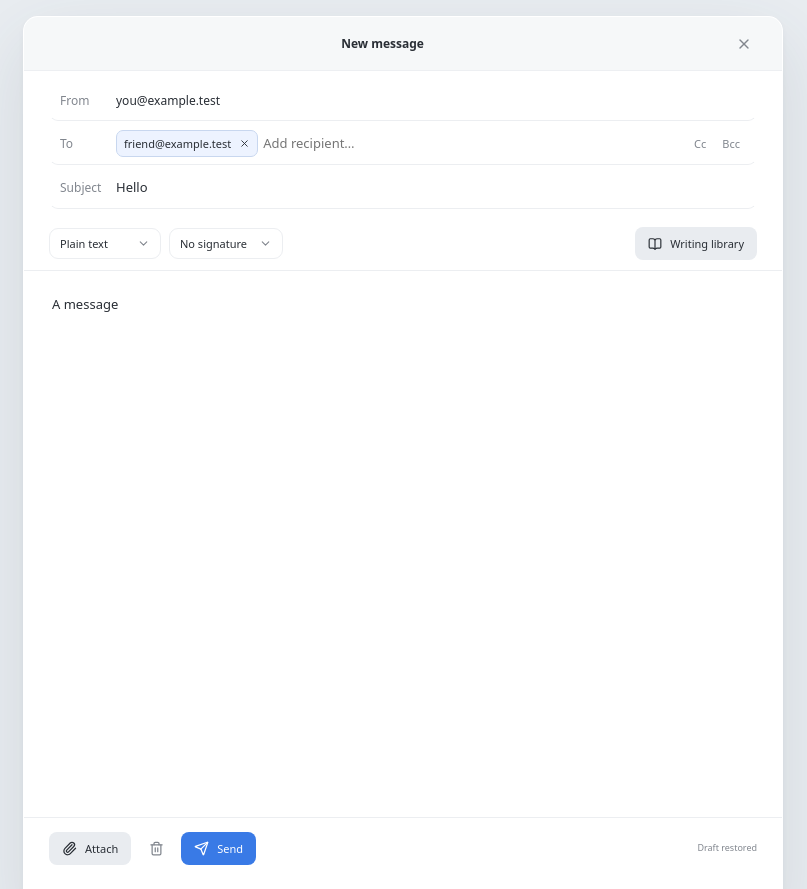
it: real Outlook composer › attaches a local file, persists it, and removes it without sending
Click the button "Attach".
click(90, 848)  # box [49,832,131,865]
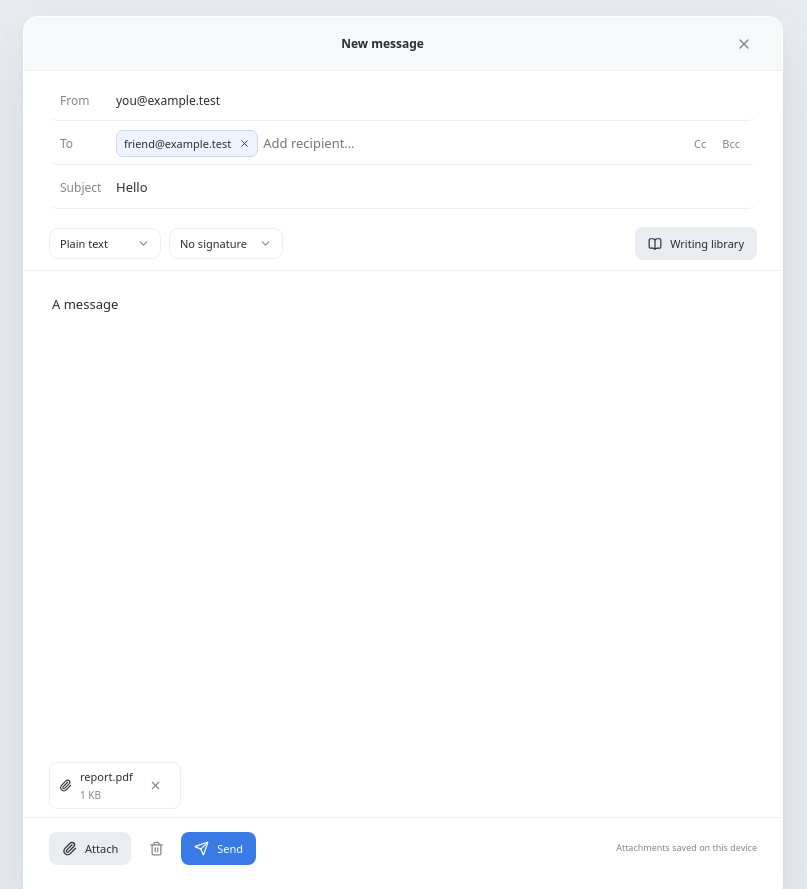
expect the text "report.pdf" is shown: met, box [80,769,133,784]
Click the button named "Remove report.pdf".
click(156, 786)  # box [141,770,171,800]
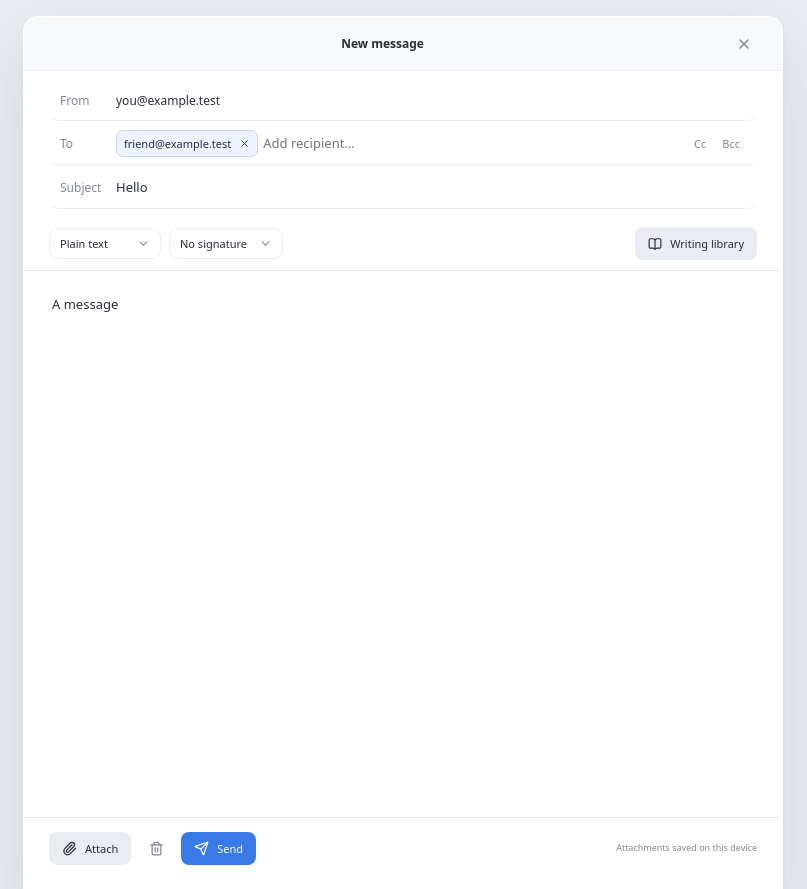
expect the text "report.pdf" is gone: met
